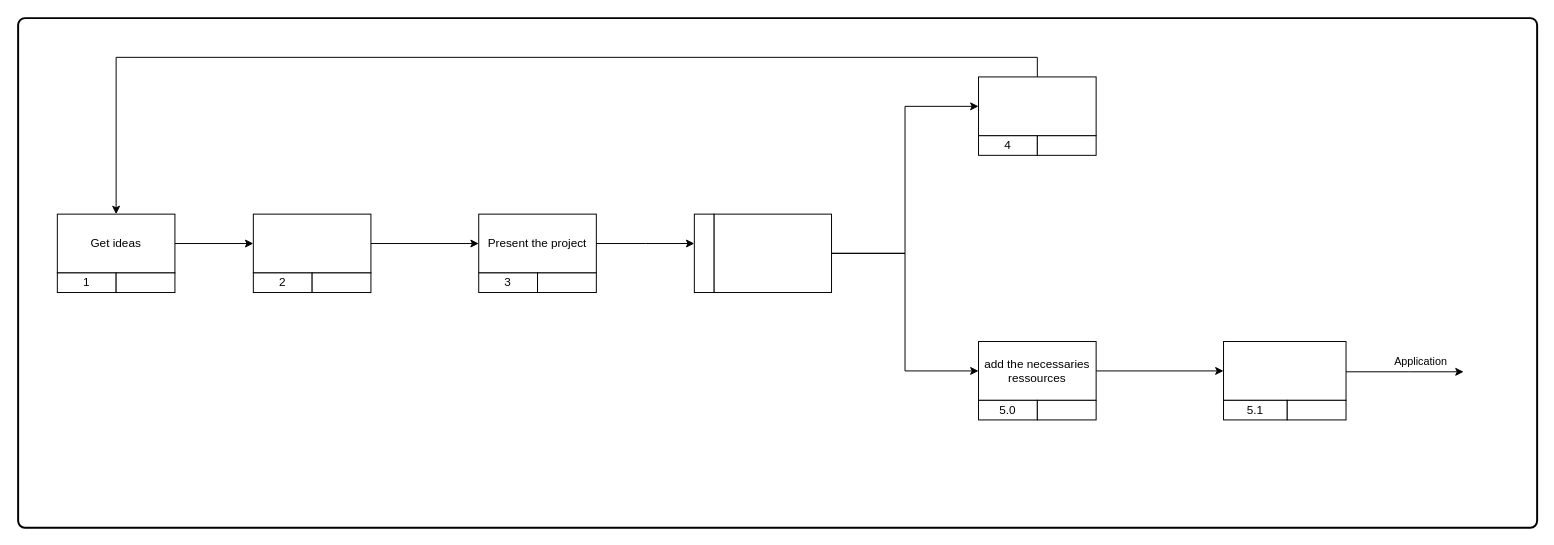
Image size: 1554x545. Some labels were removed from this diagram. The shapes that lost their labels are listed below. From the top down, each one's centre as x and y in pixels, then its label:
At point (1037, 106): "Want more ideas".
At point (311, 243): "Make a maquette of app project".
At point (772, 253): "vote of organisation members".
At point (1284, 370): "Develop app".
